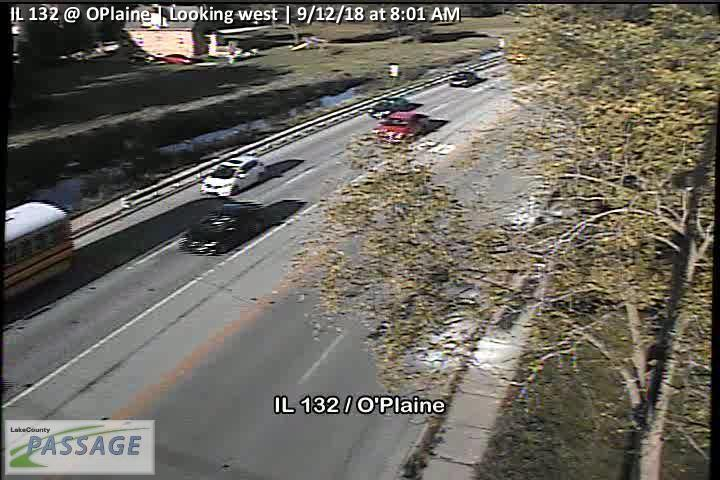SUV: (199, 155, 264, 196), (373, 111, 431, 145)
Sedan: (180, 201, 266, 256), (367, 97, 409, 120), (448, 71, 476, 87)
